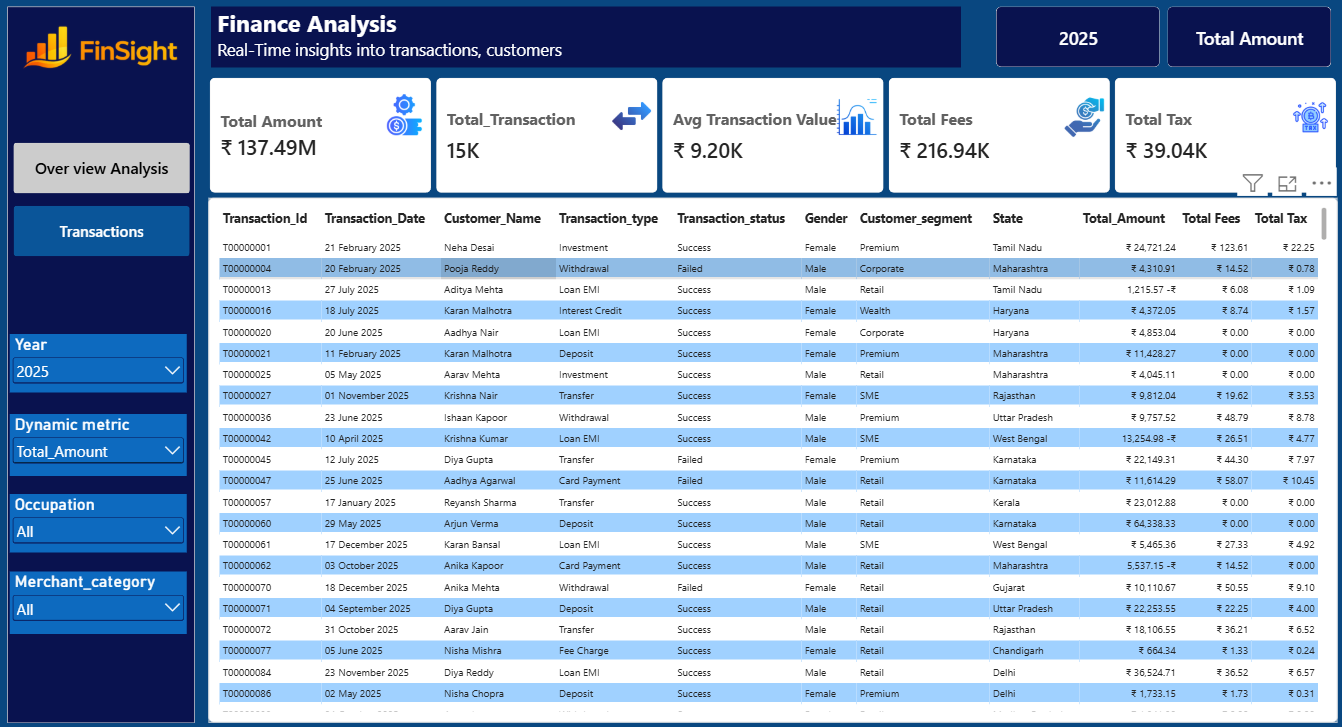

The page's visual inventory and layout, read from the dashboard file:
{"tool":"powerbi","page":{"name":"Transactions","canvas":[2200,1190],"ordinal":1},"visuals":[{"type":"cardVisual","fields":{"Data":["finance_transactions.Total_Amount","finance_transactions.Total_Transaction","finance_transactions.Avg Transaction Value","finance_transactions.Total fees","finance_transactions.Total Tax"]},"box":[350,134.9,1806,184],"z":0},{"type":"shape","box":[26.7,20,300,1146.7],"z":1000},{"type":"slicer","fields":{"Values":["customers.occupation"]},"box":[29.6,800.4,283.3,93.3],"z":2000},{"type":"slicer","fields":{"Values":["finance_transactions.merchant_category"]},"box":[29.6,923.8,283.3,100],"z":3000},{"type":"slicer","fields":{"Values":["Dynamic metric.Dynamic metric"]},"box":[29.6,671.6,283.3,98.9],"z":4000},{"type":"slicer","fields":{"Values":["Calendar_Table.Year"]},"box":[29.6,544.9,283.3,93.3],"z":5000},{"type":"pageNavigator","box":[35.6,237.8,282.2,182.2],"z":6000},{"type":"image","box":[28.9,35.6,300,100],"z":7000},{"type":"textbox","box":[352.1,20.8,1200,97.9],"z":8000},{"type":"cardVisual","fields":{"Data":["finance_transactions.Selected Year","finance_transactions.Selected Dynamic Measure"]},"box":[1607.5,20,537.5,97.5],"z":9000},{"type":"tableEx","fields":{"Values":["finance_transactions.transaction_id","finance_transactions.transaction_date","customers.Customer_Name","finance_transactions.transaction_type","finance_transactions.transaction_status","customers.gender","customers.customer_segment","customers.state","finance_transactions.Total_Amount","finance_transactions.Total Fees","finance_transactions.Total Tax"]},"box":[347.8,326.1,1806.5,839.1],"z":10000},{"type":"image","box":[628.9,138.9,66,110.4],"z":10001},{"type":"image","box":[992.2,140,66,110],"z":10002},{"type":"image","box":[1352.9,141.4,66.7,110],"z":10003},{"type":"image","box":[1715.7,141.4,66,110],"z":10004},{"type":"image","box":[2077.1,142.9,66,110],"z":10005}]}

Visuals, with their boxes in screenshot pixels (x1, y1, x2, y2), scaled from the page's 2200x1190 canvas onto the 1342x727 screenshot:
cardVisual - finance_transactions.Total_Amount x finance_transactions.Total_Transaction: BBox(214, 82, 1315, 195)
shape: BBox(16, 12, 199, 713)
slicer - customers.occupation: BBox(18, 489, 191, 546)
slicer - finance_transactions.merchant_category: BBox(18, 564, 191, 625)
slicer - Dynamic metric.Dynamic metric: BBox(18, 410, 191, 471)
slicer - Calendar_Table.Year: BBox(18, 333, 191, 390)
pageNavigator: BBox(22, 145, 194, 257)
image: BBox(18, 22, 201, 83)
textbox: BBox(215, 13, 947, 73)
cardVisual - finance_transactions.Selected Year x finance_transactions.Selected Dynamic Measure: BBox(981, 12, 1308, 72)
tableEx - finance_transactions.transaction_id x finance_transactions.transaction_date: BBox(212, 199, 1314, 712)
image: BBox(384, 85, 424, 152)
image: BBox(605, 86, 646, 153)
image: BBox(825, 86, 866, 154)
image: BBox(1047, 86, 1087, 154)
image: BBox(1267, 87, 1307, 155)
